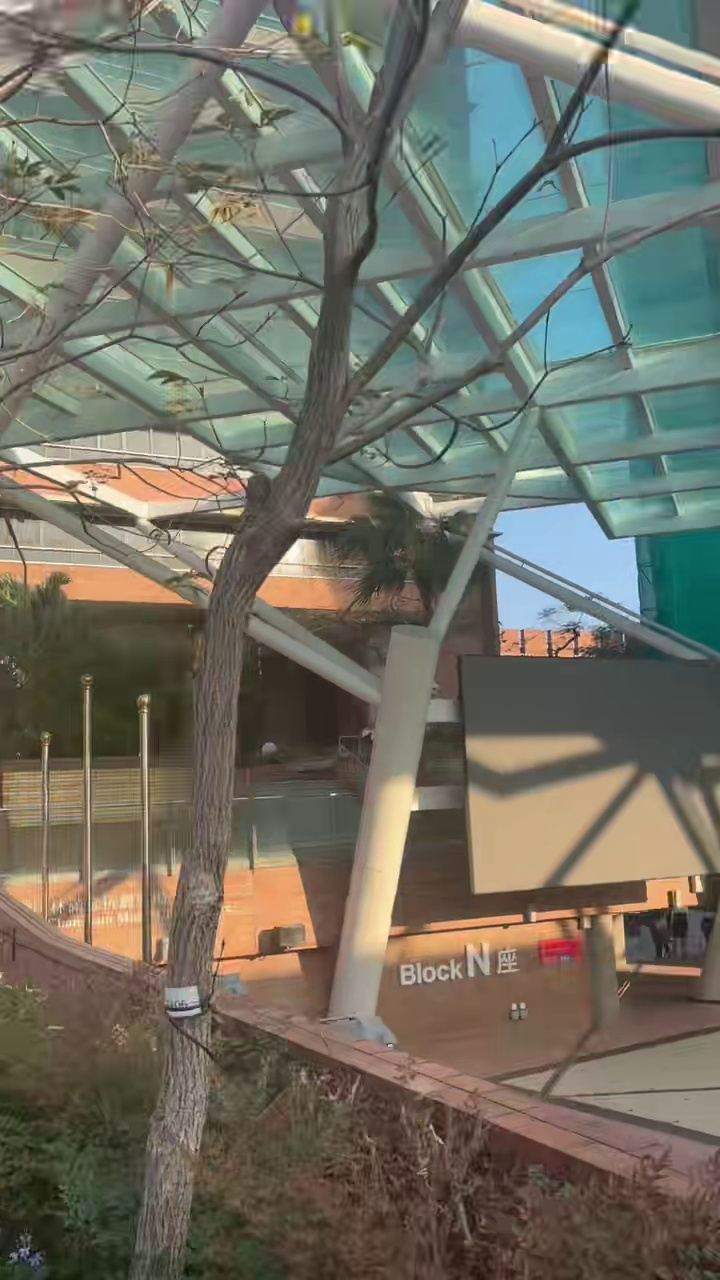Tabebuia chrysantha: (130, 0, 719, 1279)
